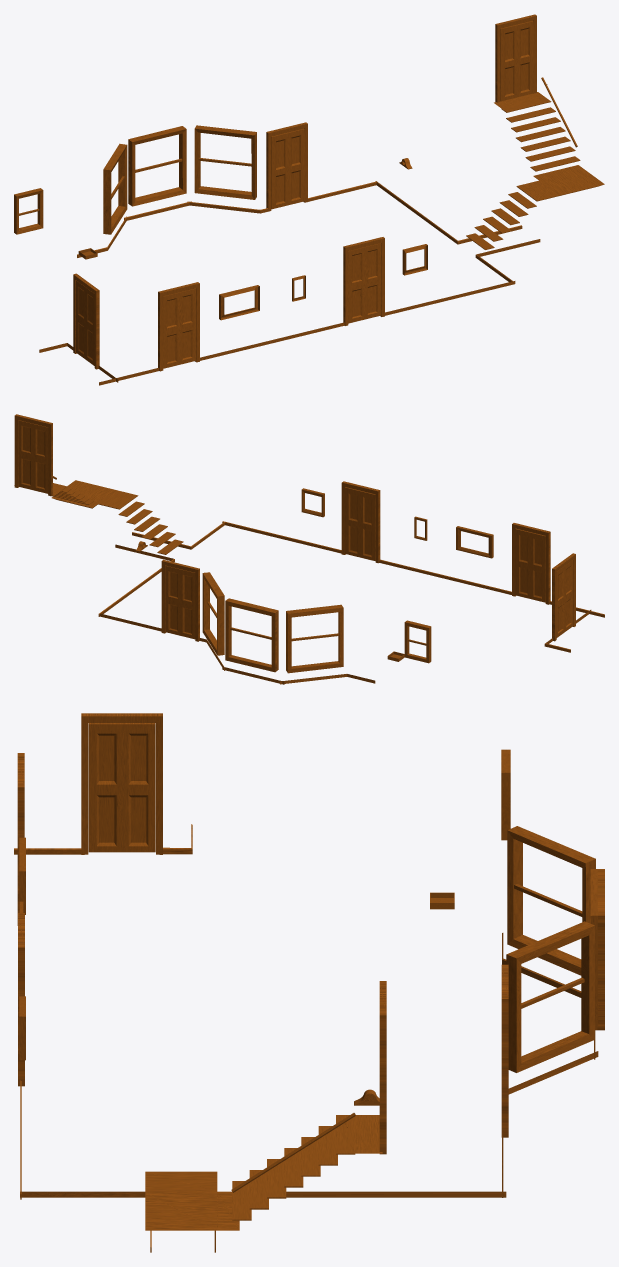
File: kitchen-doorWood.obj
3 renders of one model, top to bottom at view 1: azimuth 30°, elevation 25°; view 2: azimuth 150°, elevation 25°; view 3: azimuth 270°, elevation 25°, orthographic. The views are drawn at different scales.
Visible parts, largest first — view 1: walls.001_Plane.001, door.003_Cube.013, door.004_Cube.013, door.001_Cube.013, door.002_Cube.013, door_Cube.013, landing_Cube.026, baseboard.001_Cube.037, baseboard.004_Cube.031, kitchenwindow_Plane.002, Cube.002_Cube.010, Cube.010_Cube.021; view 2: walls.001_Plane.001, door.002_Cube.013, door.001_Cube.013, door.004_Cube.013, door.003_Cube.013, door_Cube.013, baseboard.001_Cube.037, baseboard.004_Cube.031, landing_Cube.026, kitchenwindow_Plane.002, Cube.002_Cube.010; view 3: walls.001_Plane.001, door_Cube.013, landing_Cube.026, baseboard.001_Cube.037, Cube.010_Cube.021, door.004_Cube.013, door.003_Cube.013, baseboard.004_Cube.031, door.001_Cube.013, door.002_Cube.013, kitchenwindow_Plane.002.
Part boxes in pixels (x1,y1,x2,y2): walls.001_Plane.001: [103, 125, 256, 234]; door.003_Cube.013: [266, 122, 307, 211]; door.004_Cube.013: [495, 14, 536, 102]; door.001_Cube.013: [158, 282, 199, 371]; door.002_Cube.013: [343, 237, 384, 325]; door_Cube.013: [73, 273, 99, 369]; landing_Cube.026: [516, 165, 604, 201]; baseboard.001_Cube.037: [77, 181, 522, 257]; baseboard.004_Cube.031: [200, 239, 540, 360]; kitchenwindow_Plane.002: [14, 188, 43, 234]; Cube.002_Cube.010: [219, 285, 259, 320]; Cube.010_Cube.021: [494, 92, 551, 112]; walls.001_Plane.001: [202, 572, 343, 673]; door.002_Cube.013: [341, 481, 380, 563]; door.001_Cube.013: [512, 523, 550, 604]; door.004_Cube.013: [14, 414, 52, 496]; door.003_Cube.013: [161, 559, 199, 641]; door_Cube.013: [552, 553, 575, 641]; baseboard.001_Cube.037: [98, 544, 375, 684]; baseboard.004_Cube.031: [132, 521, 511, 594]; landing_Cube.026: [51, 480, 138, 509]; kitchenwindow_Plane.002: [404, 620, 431, 663]; Cube.002_Cube.010: [456, 526, 493, 558]; walls.001_Plane.001: [506, 826, 604, 1072]; door_Cube.013: [81, 713, 162, 854]; landing_Cube.026: [145, 1171, 239, 1230]; baseboard.001_Cube.037: [214, 933, 598, 1252]; Cube.010_Cube.021: [336, 1115, 382, 1154]; door.004_Cube.013: [379, 981, 386, 1154]; door.003_Cube.013: [501, 964, 508, 1137]; baseboard.004_Cube.031: [20, 1080, 151, 1252]; door.001_Cube.013: [17, 753, 24, 925]; door.002_Cube.013: [18, 913, 24, 1086]; kitchenwindow_Plane.002: [501, 749, 510, 840].
Size of the model in its own units: 39.66 by 11.26 by 20.75.
1 material, 1 textured.
